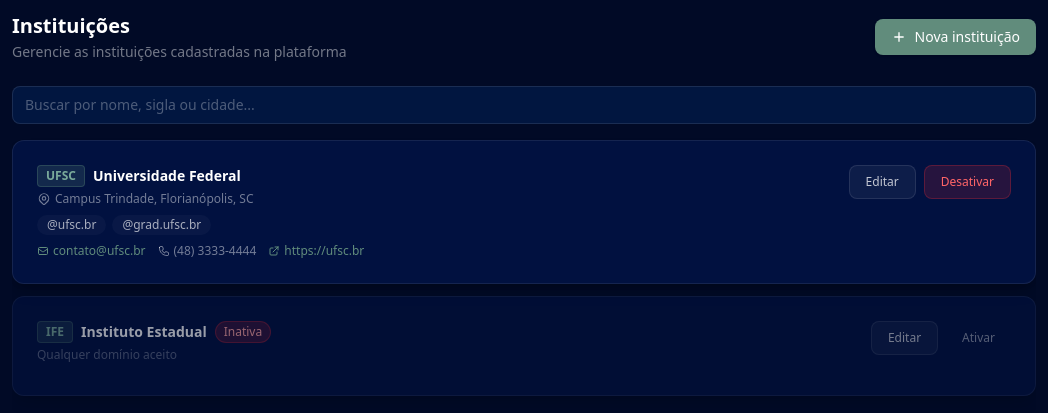
Test case: Instituicoes — busca › filtra por sigla
Expected: the heading "Universidade Federal" is shown, x1=93 y1=166 x2=241 y2=186
Type "IFE" into the field with placeholder "Buscar por nome, sigla ou cidade..." at (524, 105), box x1=12 y1=86 x2=1036 y2=124
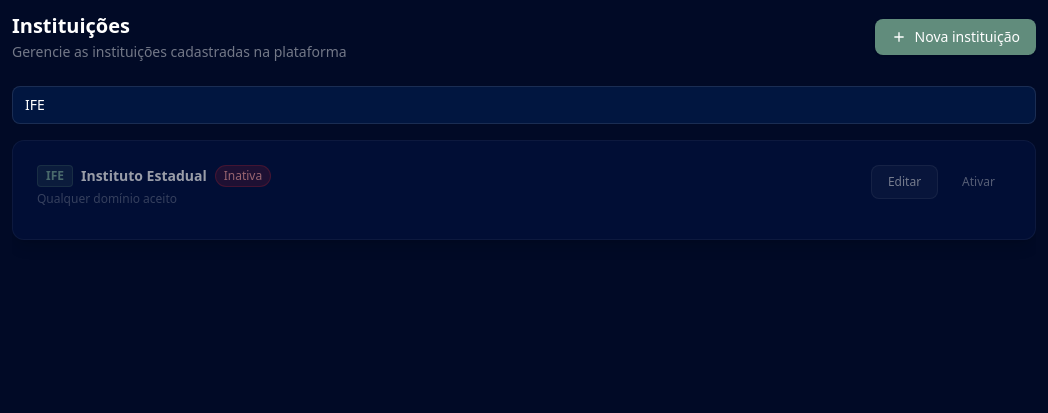
Expected: the heading "Instituto Estadual" is shown, x1=81 y1=166 x2=207 y2=186
Now the heading "Universidade Federal" is gone
